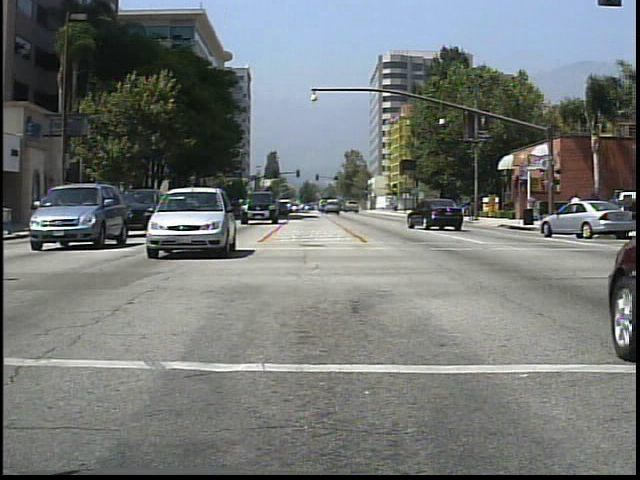person: (567, 191, 588, 235), (526, 192, 541, 228)
